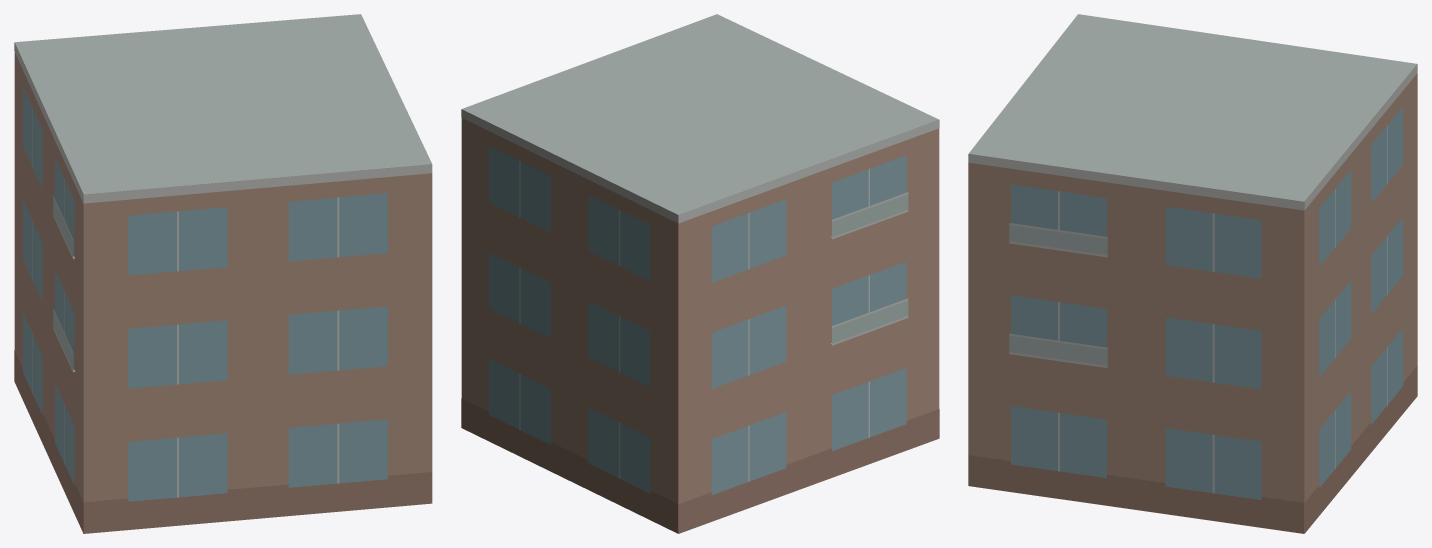
The model's file is survey-upis-32720695.glb.
3 renders of one model, left to right at view 1: azimuth 30°, elevation 25°; view 2: azimuth 150°, elevation 25°; view 3: azimuth 270°, elevation 25°, orthographic. The views are drawn at different scales.
Parts seen in each view (by area): view 1: survey-upis-32720695.tmp; view 2: survey-upis-32720695.tmp; view 3: survey-upis-32720695.tmp.
Boxes of the visible parts, bbox=[...] form: survey-upis-32720695.tmp: bbox=[14, 14, 432, 533]; survey-upis-32720695.tmp: bbox=[461, 14, 939, 533]; survey-upis-32720695.tmp: bbox=[968, 14, 1417, 533].
Size of the model in its own units: 11.1 by 9.15 by 11.23.
